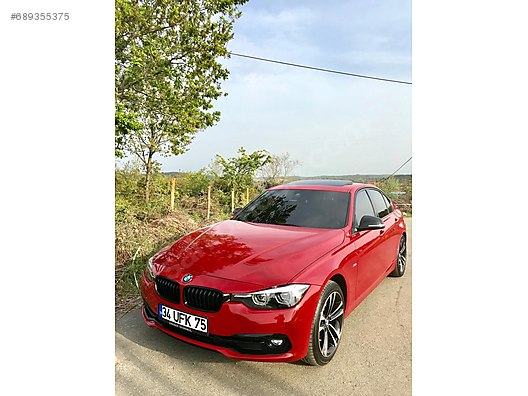b: (137, 175, 413, 374)
